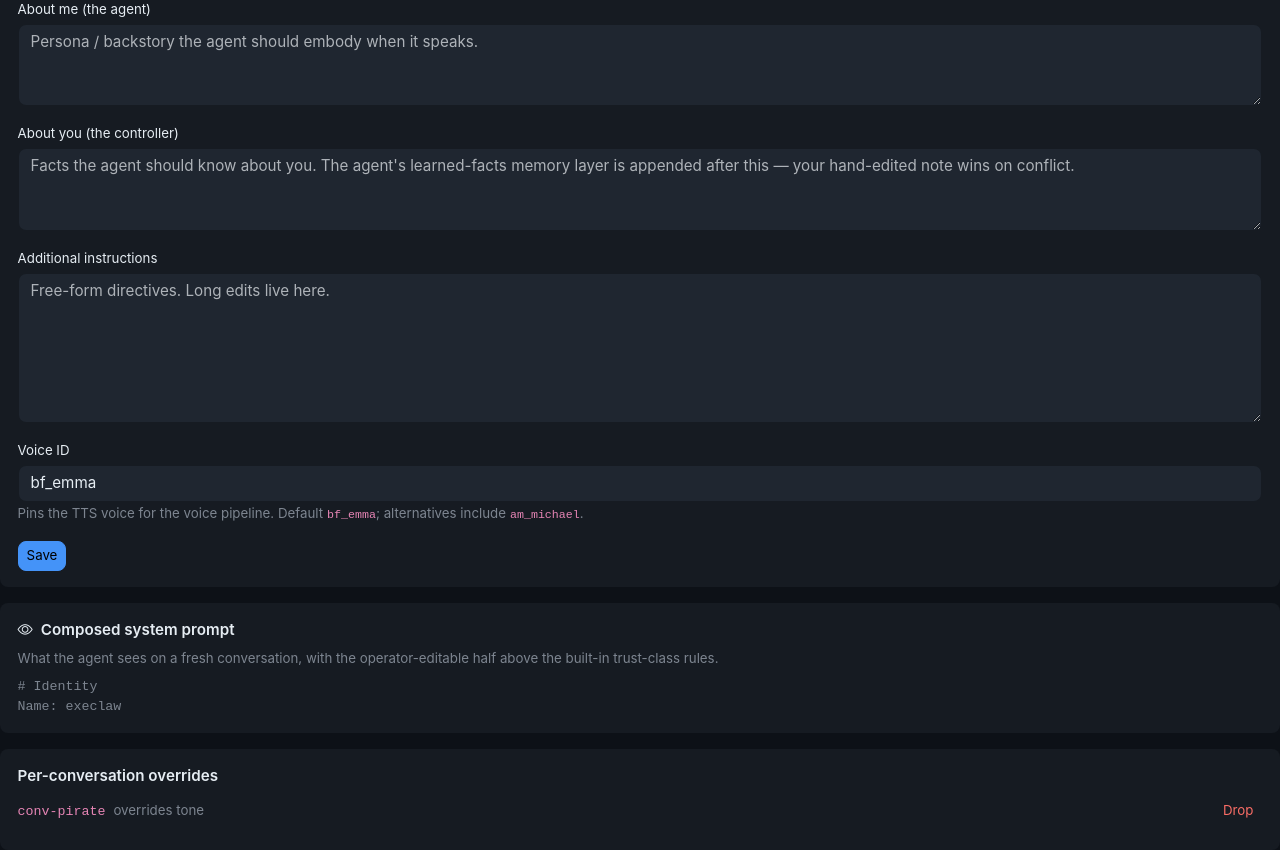
PersonalityPage › renders + drops a conversation override
The image size is (1280, 850).
(page scrolled)
Expected: the text "conv-pirate" is shown, [18, 802, 105, 822]
Expected: the text "overrides tone" is shown, [113, 802, 204, 818]
Click the button with test id "personality-override-delete" at (1238, 811), box [1214, 796, 1262, 826]
(page scrolled)
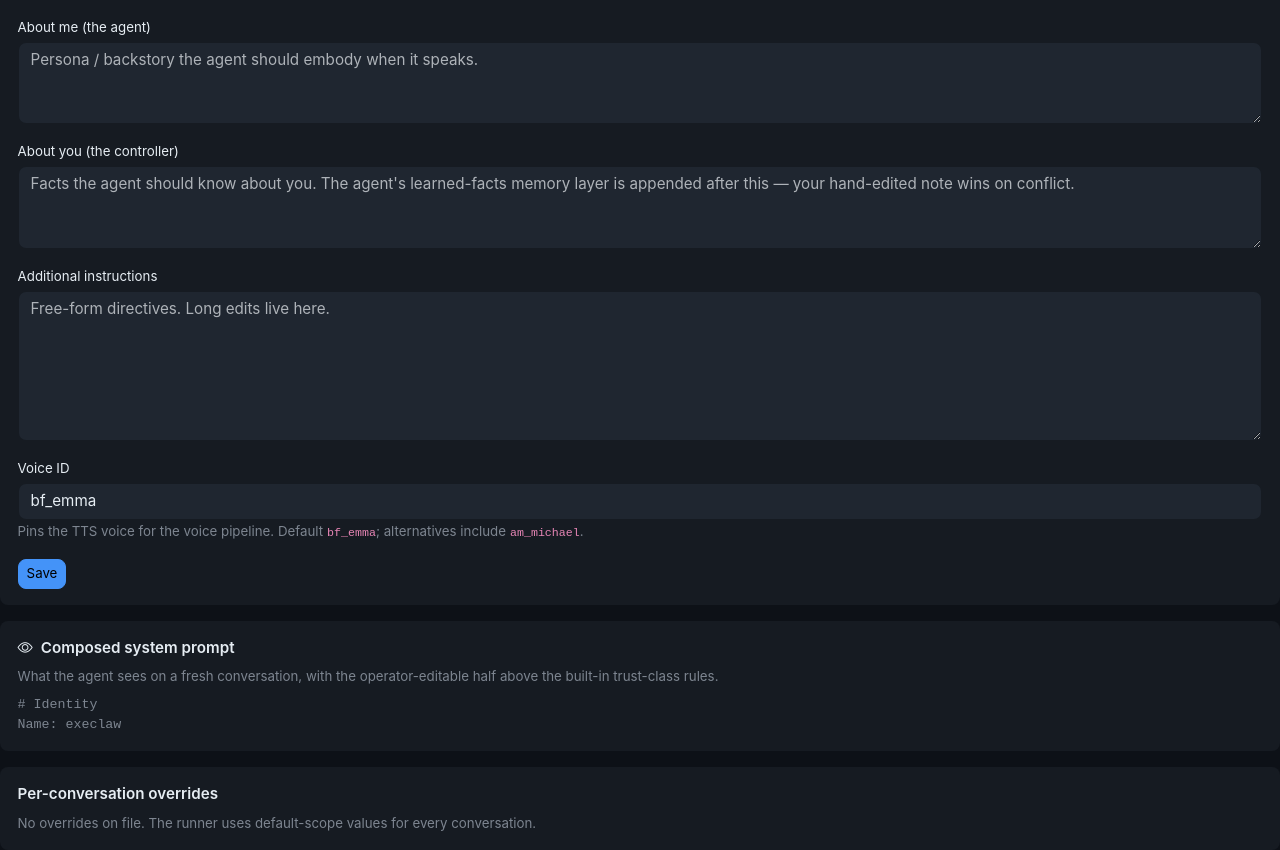
Now the text "conv-pirate" is gone
Now the text "No overrides on file" is shown, box [18, 815, 536, 831]
